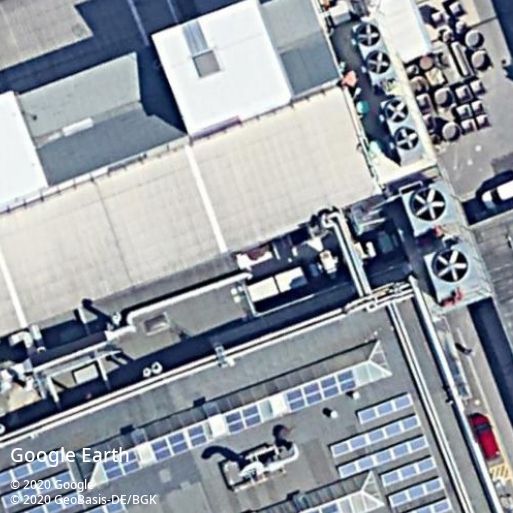Vent: (410, 187, 448, 223), (432, 248, 469, 284), (365, 50, 391, 76), (384, 99, 410, 124), (395, 127, 420, 151), (357, 23, 381, 47)
